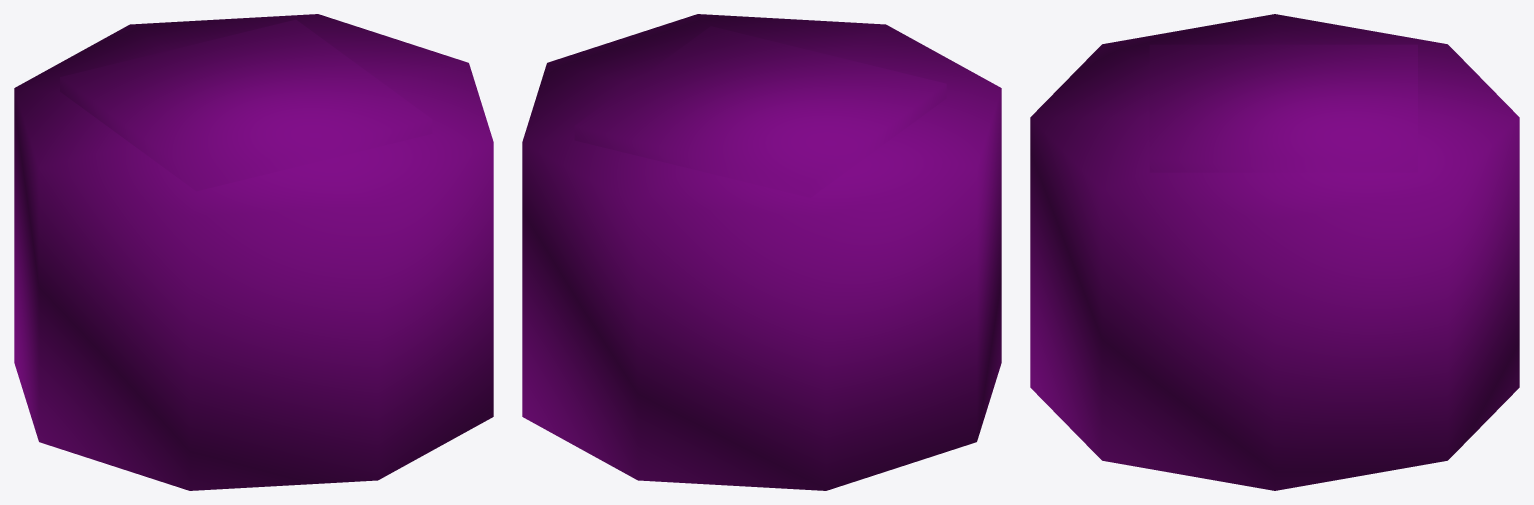
File: ps2_jrpg_rebel_camp_supply_barrel.obj
The picture shows the model from 3 angles, left to right: view 1: azimuth 30°, elevation 25°; view 2: azimuth 150°, elevation 25°; view 3: azimuth 270°, elevation 25°; orthographic projection.
Size of the model in its own units: 1.64 by 1.06 by 1.64.
